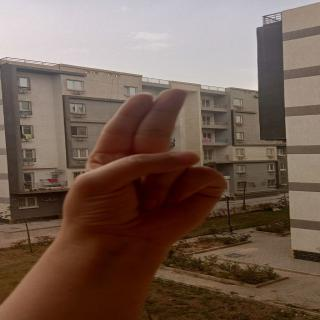TA: (52, 78, 259, 246)
